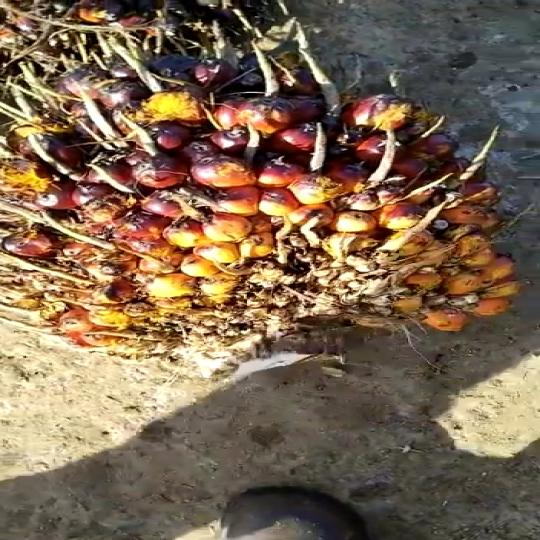masak: (0, 18, 540, 352)
